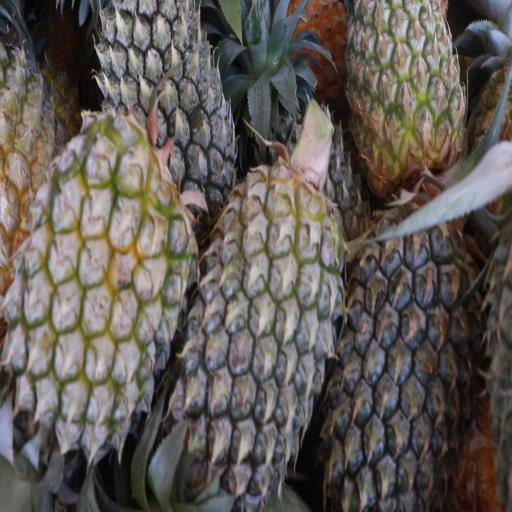------------------------------: (14, 118, 184, 448), (347, 0, 465, 181)
